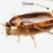cockroach: (9, 12, 53, 32)
